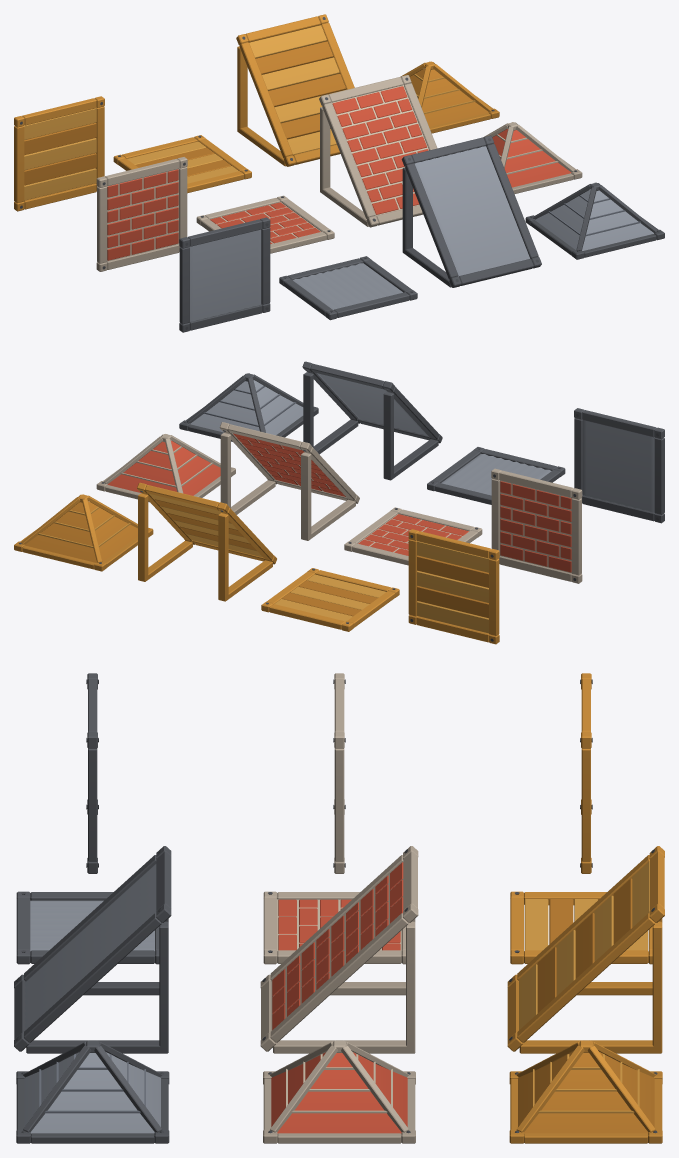
The model's file is modular_kit.glb.
The picture shows the model from 3 angles, top to bottom: view 1: azimuth 30°, elevation 25°; view 2: azimuth 150°, elevation 25°; view 3: azimuth 270°, elevation 25°; orthographic projection. The views are drawn at different scales.
Visible parts, largest first — view 1: kit_ramp_metal, kit_ramp_wood, kit_ramp_brick, kit_wall_metal, kit_wall_brick, kit_wall_wood, kit_cone_metal, kit_floor_metal, kit_floor_wood, kit_floor_brick, kit_cone_wood, kit_cone_brick; view 2: kit_wall_wood, kit_wall_brick, kit_wall_metal, kit_ramp_wood, kit_ramp_metal, kit_ramp_brick, kit_cone_wood, kit_floor_wood, kit_cone_metal, kit_cone_brick, kit_floor_metal, kit_floor_brick; view 3: kit_ramp_wood, kit_ramp_metal, kit_ramp_brick, kit_cone_wood, kit_cone_metal, kit_cone_brick, kit_floor_metal, kit_floor_brick, kit_floor_wood, kit_wall_brick, kit_wall_wood, kit_wall_metal.
Part boxes in pixels (bbox=[...]): kit_ramp_metal: bbox=[401, 135, 541, 287]; kit_ramp_wood: bbox=[236, 14, 354, 166]; kit_ramp_brick: bbox=[319, 75, 437, 227]; kit_wall_metal: bbox=[179, 217, 270, 332]; kit_wall_brick: bbox=[96, 157, 187, 271]; kit_wall_wood: bbox=[14, 96, 104, 211]; kit_cone_metal: bbox=[525, 182, 664, 259]; kit_floor_metal: bbox=[279, 256, 417, 320]; kit_floor_wood: bbox=[113, 135, 251, 193]; kit_floor_brick: bbox=[196, 195, 334, 253]; kit_cone_wood: bbox=[400, 61, 499, 133]; kit_cone_brick: bbox=[483, 122, 582, 193]; kit_wall_wood: bbox=[408, 529, 499, 644]; kit_wall_brick: bbox=[491, 468, 582, 583]; kit_wall_metal: bbox=[574, 408, 664, 523]; kit_ramp_wood: bbox=[137, 482, 276, 601]; kit_ramp_metal: bbox=[302, 361, 442, 480]; kit_ramp_brick: bbox=[219, 422, 359, 540]; kit_cone_wood: bbox=[14, 494, 153, 571]; kit_floor_wood: bbox=[261, 568, 399, 631]; kit_cone_metal: bbox=[179, 373, 318, 441]; kit_cone_brick: bbox=[96, 434, 235, 502]; kit_floor_metal: bbox=[427, 447, 565, 504]; kit_floor_brick: bbox=[344, 507, 482, 565]; kit_ramp_wood: bbox=[507, 846, 664, 1053]; kit_ramp_metal: bbox=[14, 846, 171, 1053]; kit_ramp_brick: bbox=[260, 846, 418, 1053]; kit_cone_wood: bbox=[509, 1040, 662, 1143]; kit_cone_metal: bbox=[16, 1040, 169, 1143]; kit_cone_brick: bbox=[263, 1040, 415, 1143]; kit_floor_metal: bbox=[16, 891, 159, 964]; kit_floor_brick: bbox=[263, 891, 405, 964]; kit_floor_wood: bbox=[510, 891, 652, 964]; kit_wall_brick: bbox=[333, 673, 345, 873]; kit_wall_wood: bbox=[580, 673, 592, 873]; kit_wall_metal: bbox=[86, 673, 98, 873].
Bounding box in the file's own units: 20.81 × 4.24 × 17.15.
